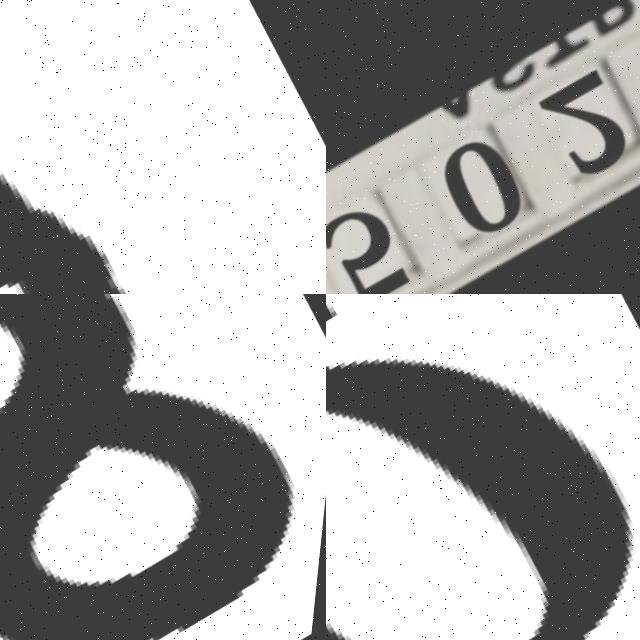0: (418, 122, 560, 260)
2: (524, 61, 640, 198)
5: (326, 188, 443, 294)
8: (0, 294, 326, 640)
Q: (326, 294, 640, 640)
